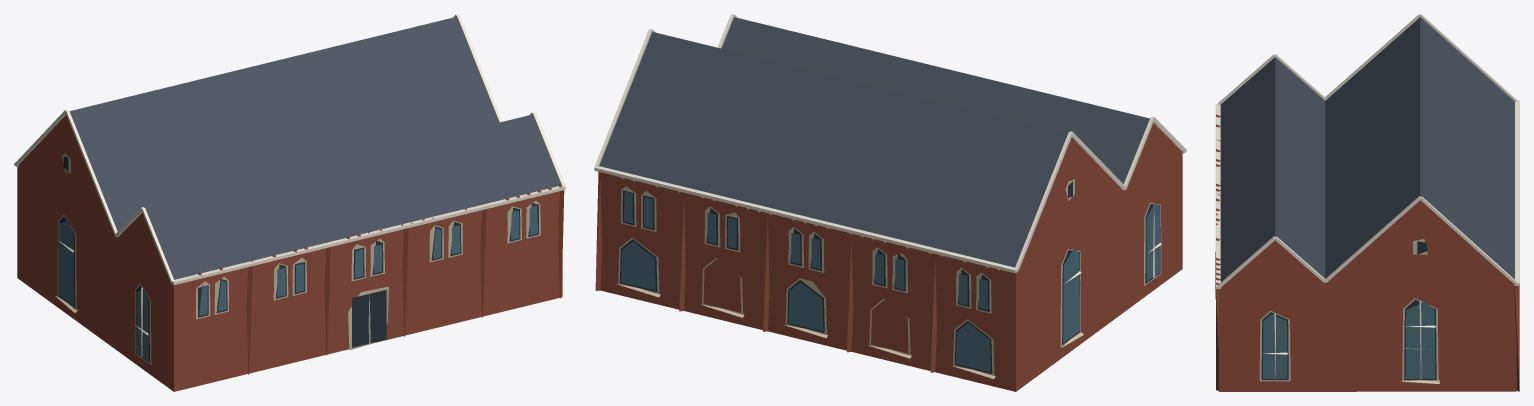
File: machinegebouw.lod1.glb
The picture shows the model from 3 angles, left to right: view 1: azimuth 30°, elevation 25°; view 2: azimuth 150°, elevation 25°; view 3: azimuth 270°, elevation 25°; orthographic projection. The views are drawn at different scales.
Parts seen in each view (by area): view 1: machinegebouw; view 2: machinegebouw; view 3: machinegebouw.
Boxes of the visible parts, box(x1,y1,x2,y2) form: machinegebouw: box(14, 14, 565, 391); machinegebouw: box(594, 14, 1186, 391); machinegebouw: box(1215, 14, 1519, 391).
Bounding box in the file's own units: 26.09 × 12.93 × 18.26.
